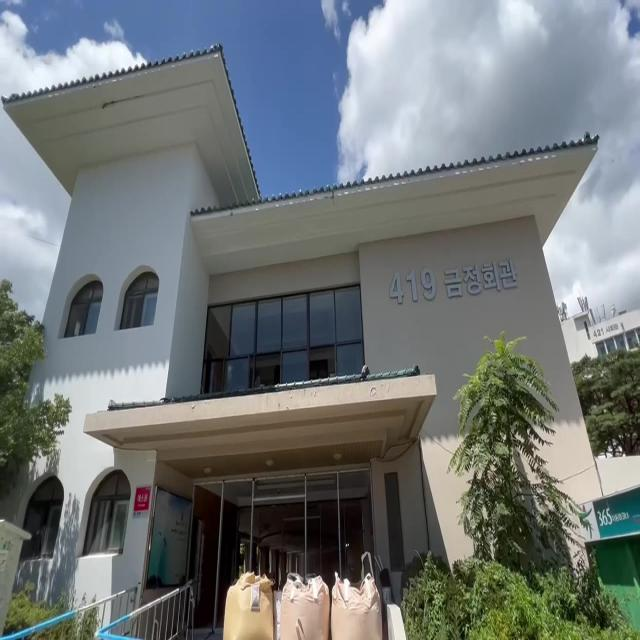building: (23, 60, 604, 481)
